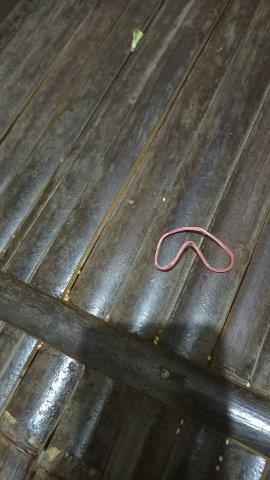karet: (155, 227, 235, 273)
